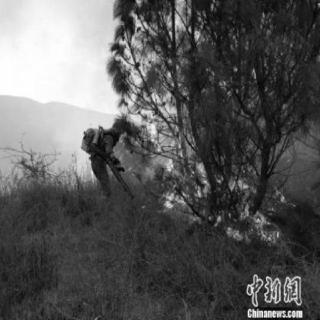Smoke: (73, 8, 105, 51)
